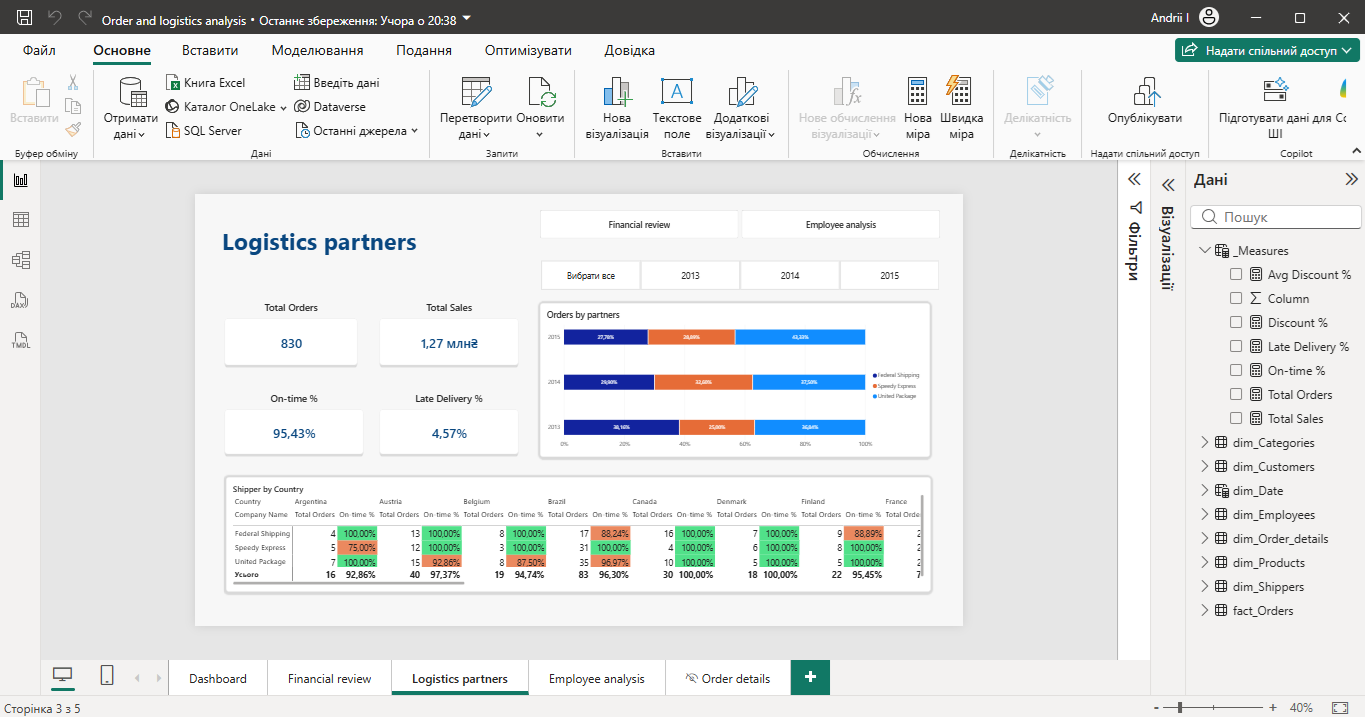

The dashboard page shown, as its layout file describes it:
{"tool":"powerbi","page":{"name":"Logistics partners","canvas":[1920,1080],"ordinal":2},"visuals":[{"type":"textbox","box":[214,22,514,92],"z":0},{"type":"pageNavigator","box":[861.8,41,1000.1,71.3],"z":1000},{"type":"cardVisual","title":"Total Orders","fields":{"Data":["_Measures.Total Orders"]},"box":[77.5,163.5,345,167.5],"z":2000},{"type":"cardVisual","title":"On-time %","fields":{"Data":["_Measures.On-time %"]},"box":[78,392,360,162],"z":3000},{"type":"hundredPercentStackedBarChart","title":"Orders by partners","fields":{"Category":["dim_Date.Year Ієрархія.Year"],"Y":["_Measures.Total Orders"],"Series":["dim_Shippers.companyName"]},"box":[862,272,1000,386],"z":4000},{"type":"pivotTable","title":"Shipper by Country","fields":{"Rows":["dim_Shippers.companyName"],"Columns":["dim_Customers.country"],"Values":["_Measures.Total Orders","_Measures.On-time %"]},"box":[76,708,1786,288],"z":5000},{"type":"slicer","fields":{"Values":["dim_Date.Year"]},"box":[844,164,1034,76],"z":6000},{"type":"cardVisual","title":"Late Delivery %","fields":{"Data":["_Measures.Late Delivery %"]},"box":[466,392,360,162],"z":7000},{"type":"cardVisual","title":"Total Sales","fields":{"Data":["Sum(fact_Orders.OrderTotal)"]},"box":[465,163.5,360,167.5],"z":8000},{"type":"actionButton","box":[0,0,100,40],"z":8001}]}

Visuals, with their boxes on the page's 1920x1080 design canvas (x1, y1, x2, y2). These are canvas units, not pixel positions in the 1365x717 screenshot, which may show the page scaled, cropped or inside an application window:
textbox: bbox(214, 22, 728, 114)
pageNavigator: bbox(862, 41, 1862, 112)
"Total Orders" cardVisual: bbox(78, 164, 422, 331)
"On-time %" cardVisual: bbox(78, 392, 438, 554)
"Orders by partners" hundredPercentStackedBarChart: bbox(862, 272, 1862, 658)
"Shipper by Country" pivotTable: bbox(76, 708, 1862, 996)
slicer - dim_Date.Year: bbox(844, 164, 1878, 240)
"Late Delivery %" cardVisual: bbox(466, 392, 826, 554)
"Total Sales" cardVisual: bbox(465, 164, 825, 331)
actionButton: bbox(0, 0, 100, 40)
